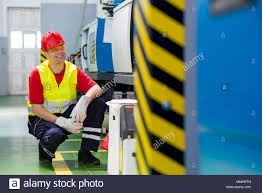helmet: (39, 30, 66, 52)
person with full safety: (24, 30, 97, 165)
safety vest: (33, 61, 81, 119)
